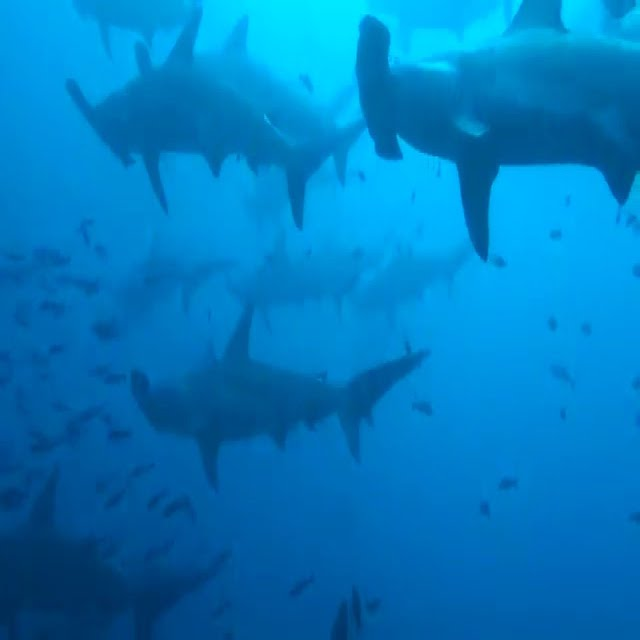hammerhead: (344, 3, 479, 175), (31, 62, 169, 166), (96, 335, 214, 438)
